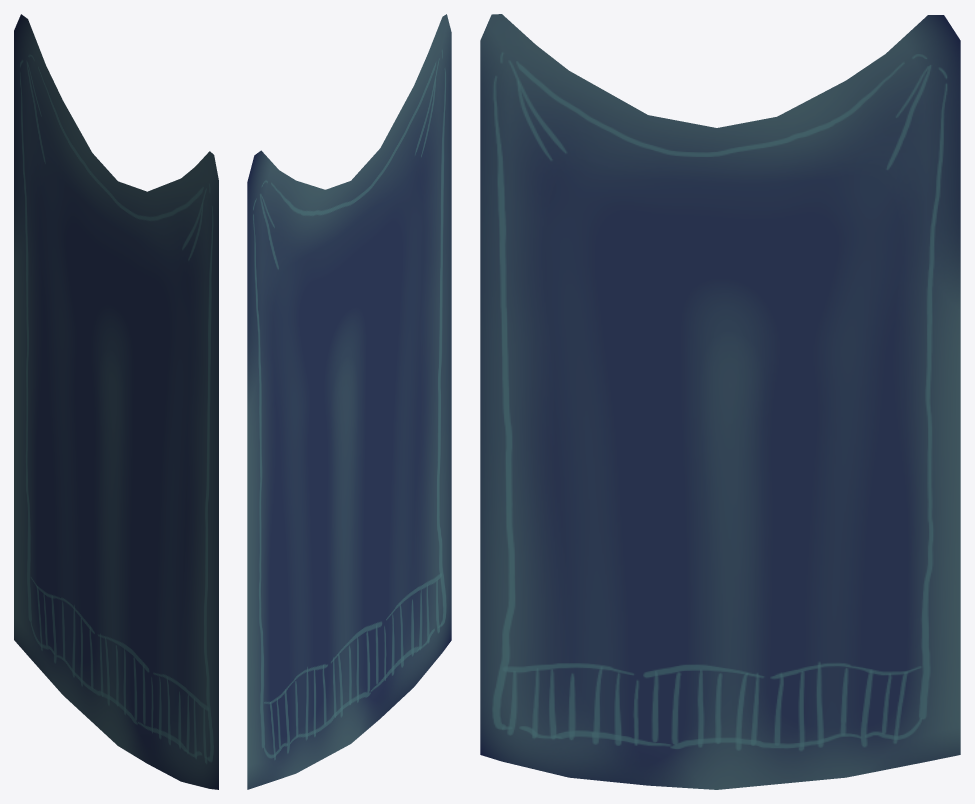
Rendered from SM_Shirt_02.fbx.
3 views of the same model, side by side, from view 1: azimuth 30°, elevation 25°; view 2: azimuth 150°, elevation 25°; view 3: azimuth 270°, elevation 25° (orthographic). The views are drawn at different scales.
Parts seen in each view (by area): view 1: SM_Shirt_02_LOD0; view 2: SM_Shirt_02_LOD0; view 3: SM_Shirt_02_LOD0.
Boxes of the visible parts, x1=… form: SM_Shirt_02_LOD0: x1=14, y1=14, x2=218, y2=789; SM_Shirt_02_LOD0: x1=247, y1=14, x2=451, y2=789; SM_Shirt_02_LOD0: x1=480, y1=14, x2=960, y2=789.
Bounding box in the file's own units: 4.67e-05 × 96.04 × 171.
Materials: 1 (1 with a texture image).
